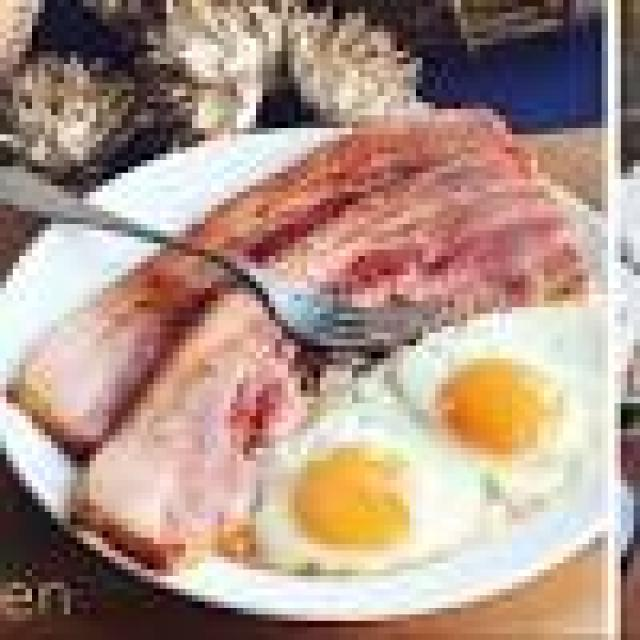bacon: (15, 114, 582, 559)
